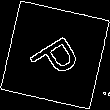P_NE: (24, 26, 86, 84)
